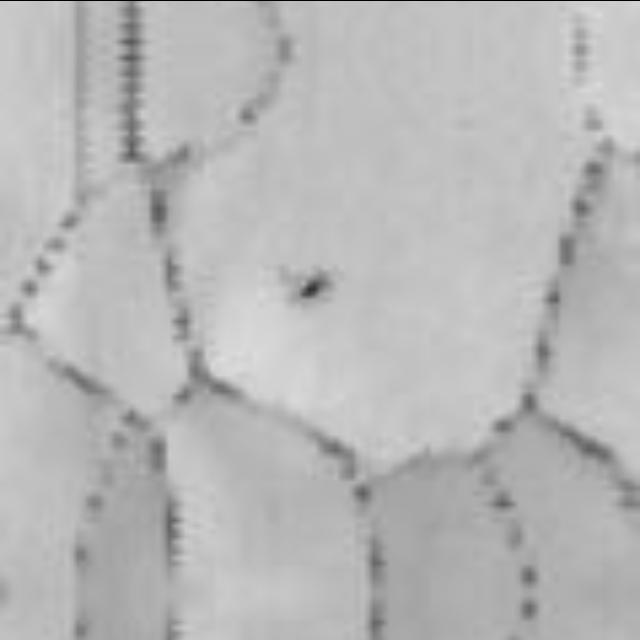good_void: (298, 270, 334, 302)
